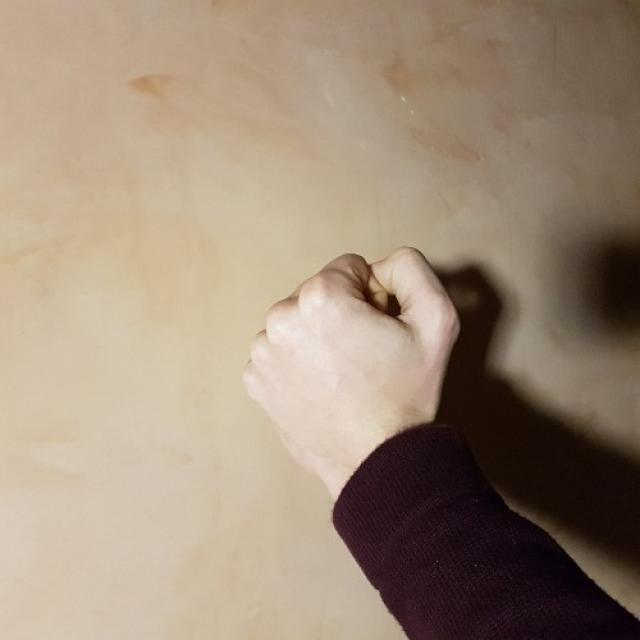rock: (244, 249, 466, 450)
